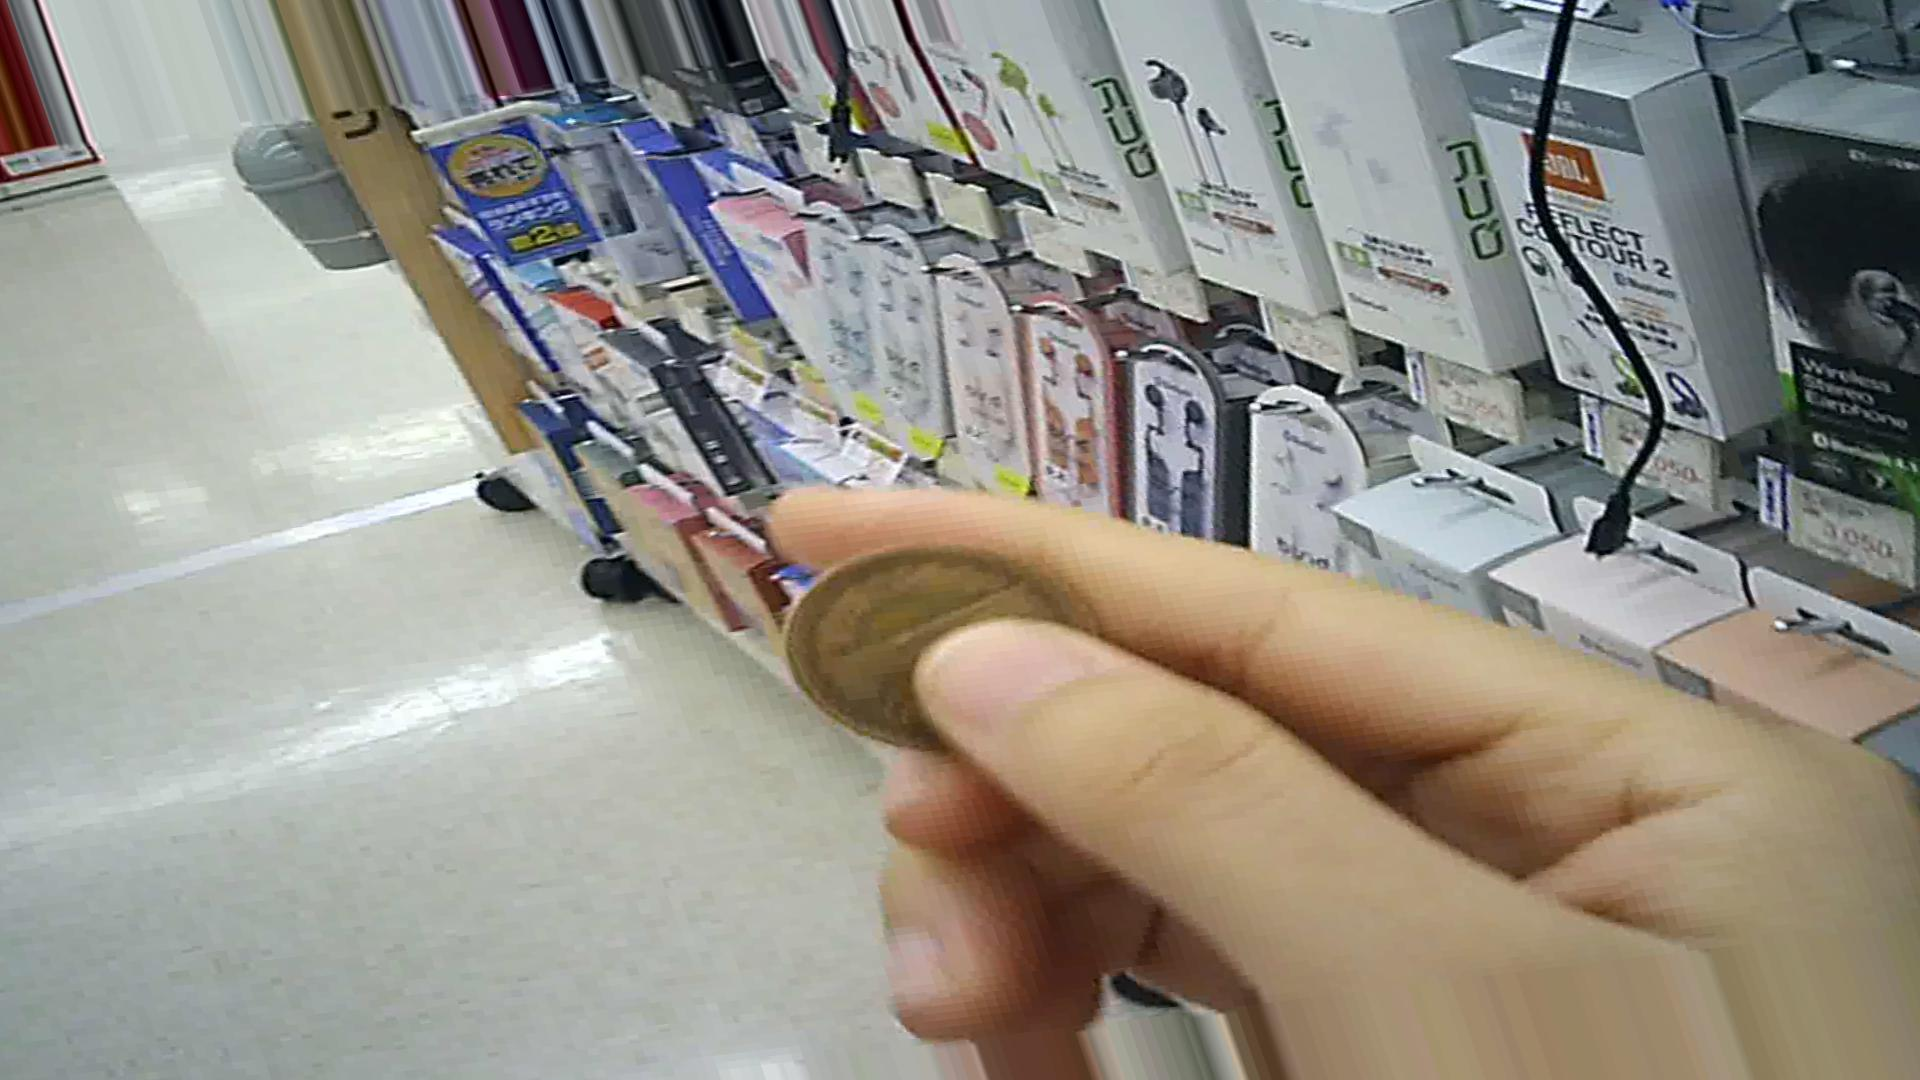10 Yen: (775, 541, 1098, 771)
